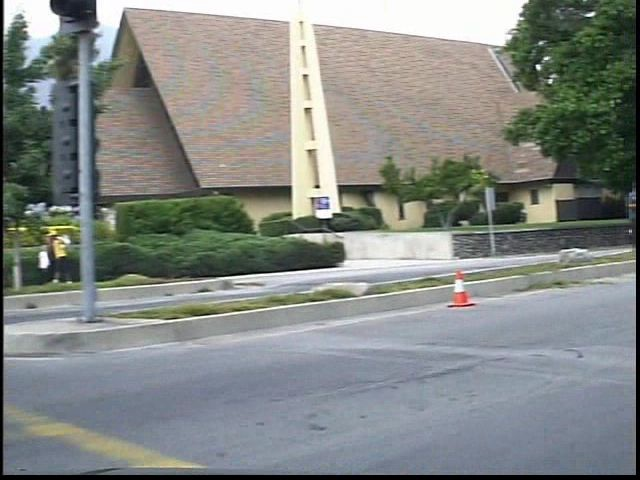person: (58, 224, 90, 288)
